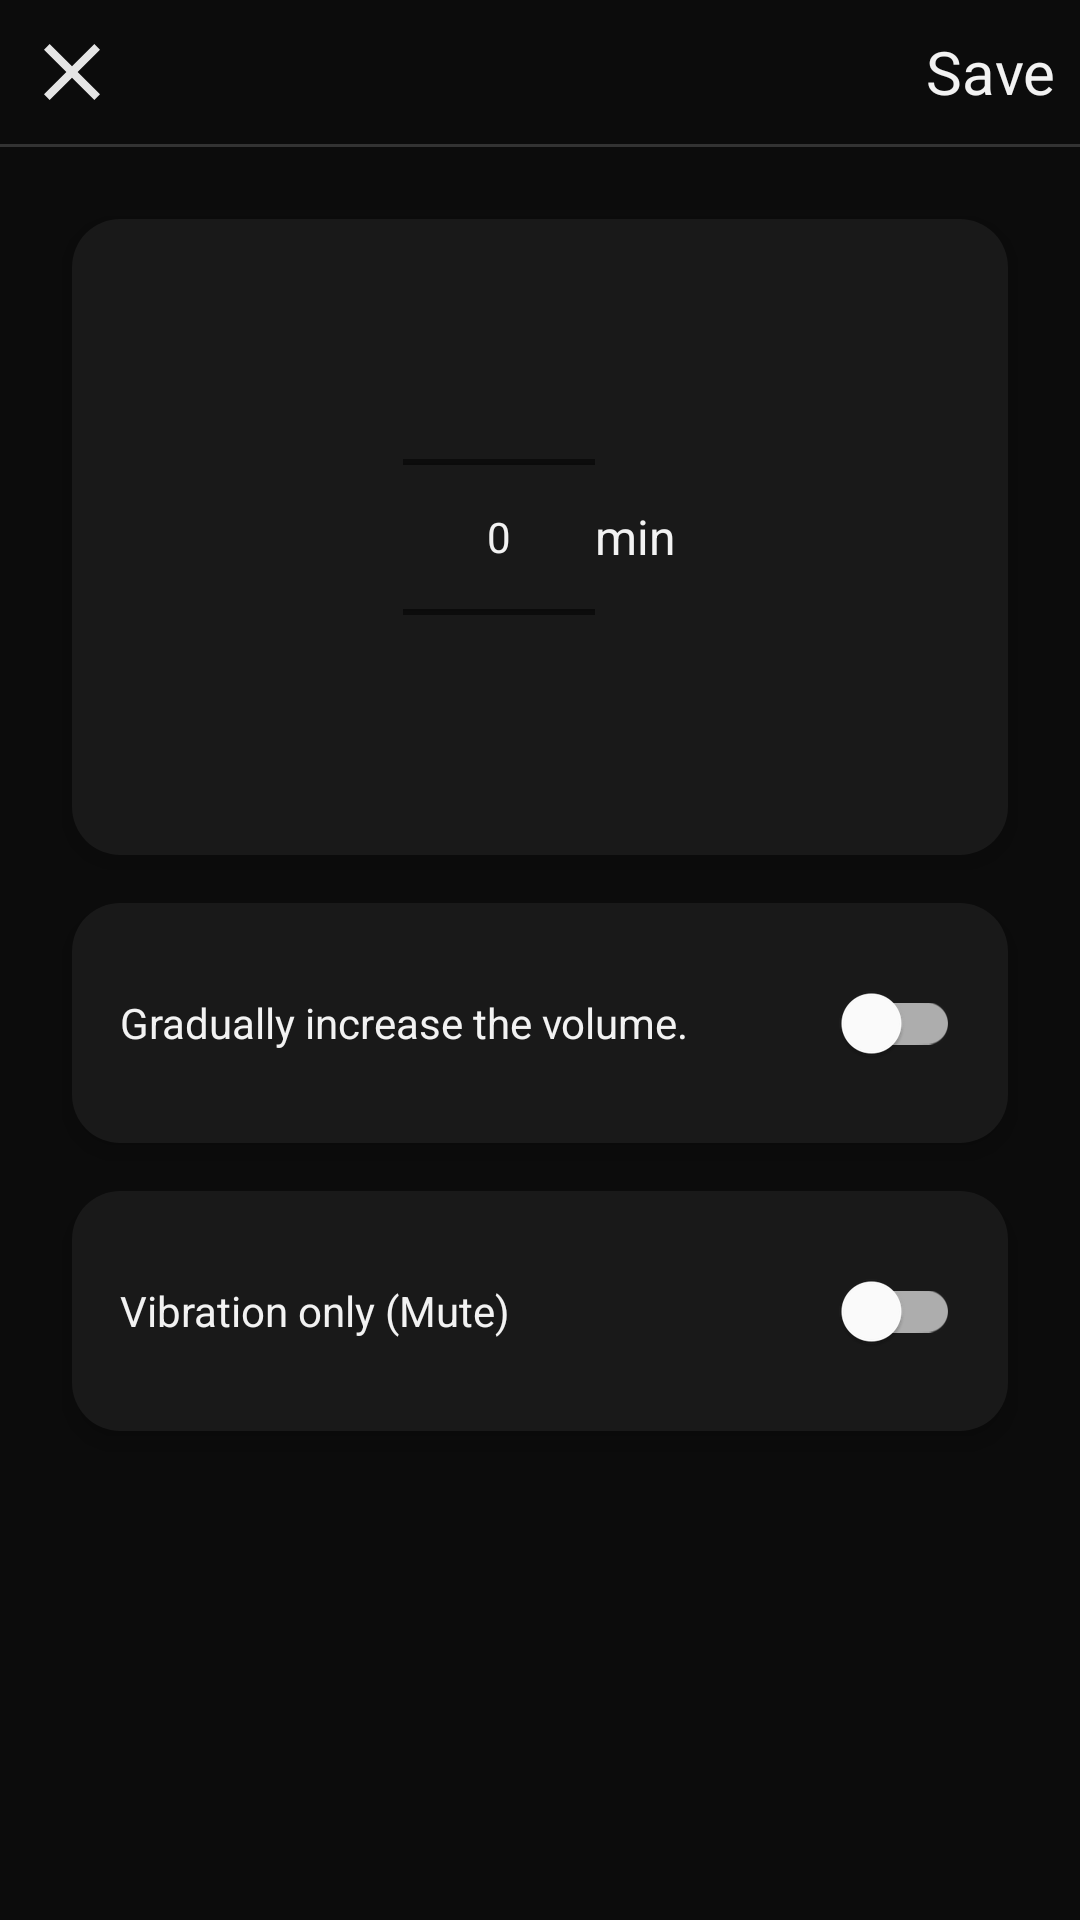

Icons on this 1080px×1920px Android screen, each with its box as (left=x1, top=y1, right=x2, bottom=y2):
close: (left=44, top=44, right=100, bottom=100)
